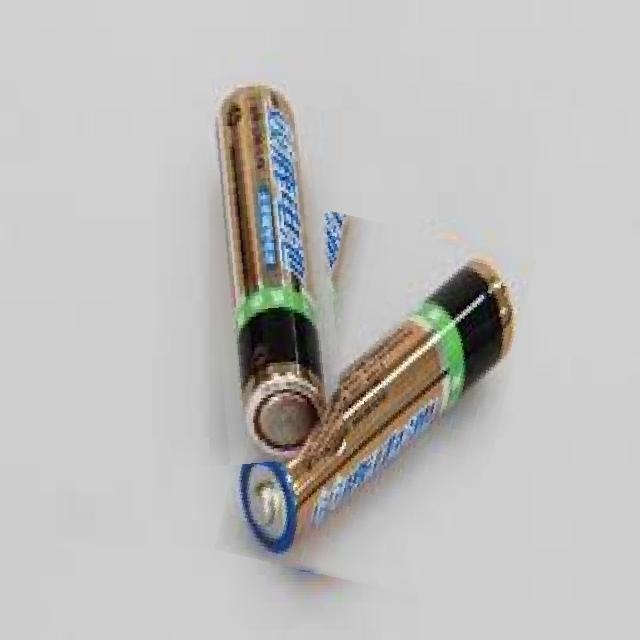Battery: (232, 251, 519, 550), (211, 77, 335, 454)
